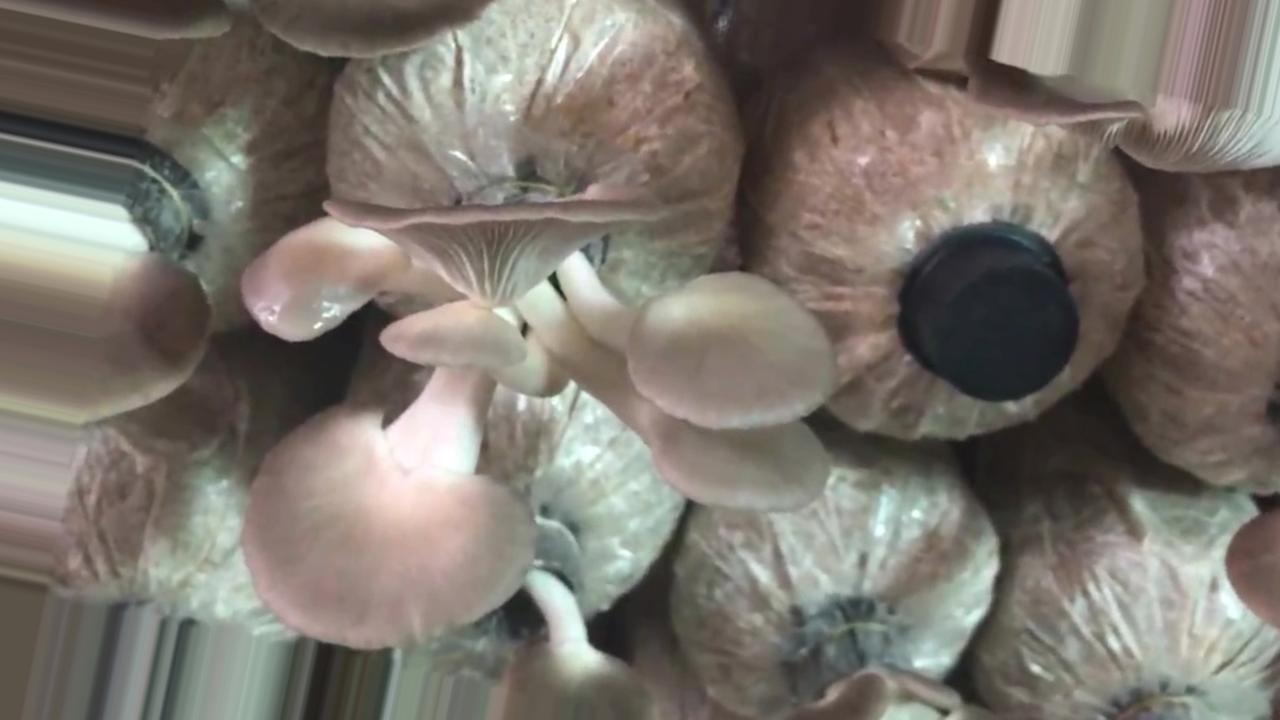nam: (232, 193, 841, 657), (1, 105, 214, 423)
